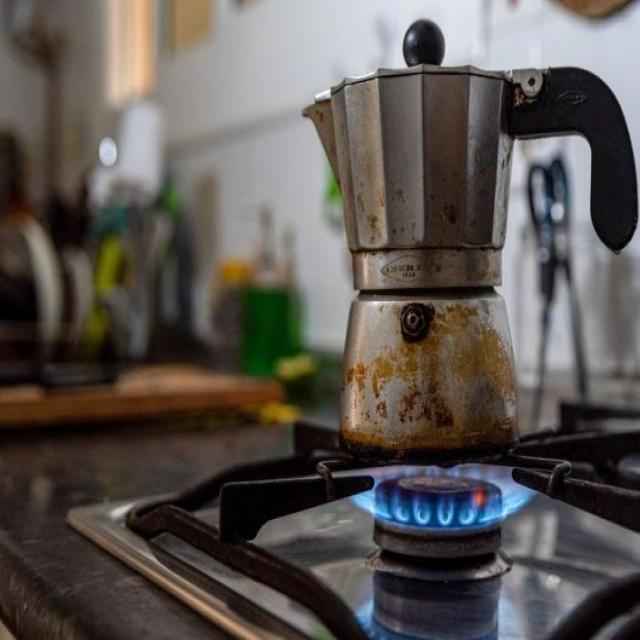Flame: (366, 463, 561, 538)
Pan: (299, 21, 640, 464)
